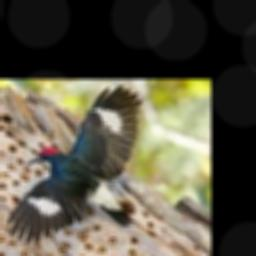Woodpecker: (6, 85, 141, 243)
